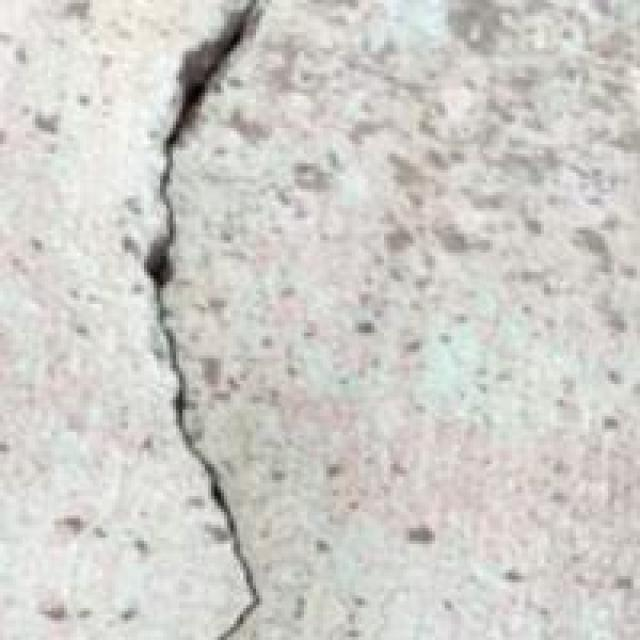Crack: (112, 0, 307, 637)
